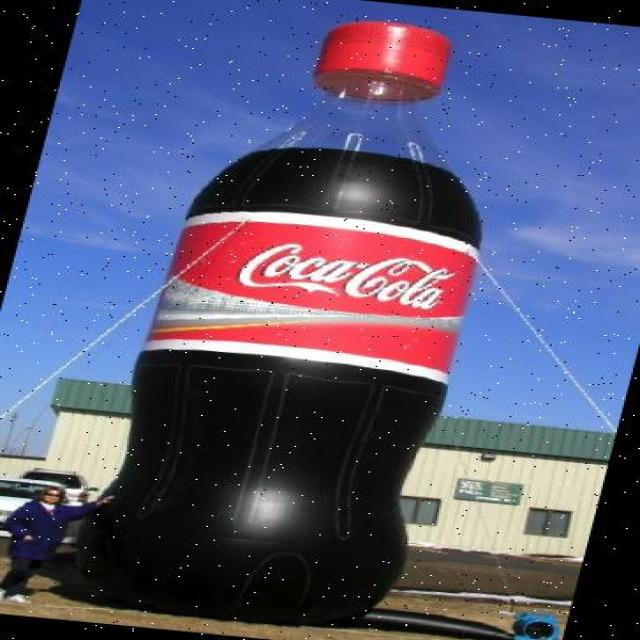coca-cola: (53, 0, 552, 637)
